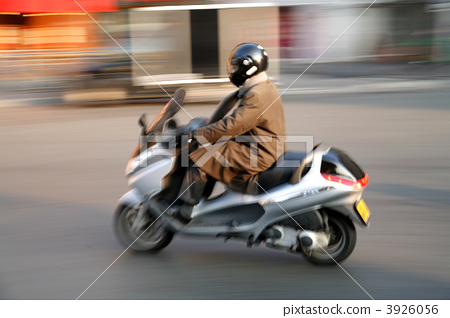helmet: (226, 43, 278, 84)
